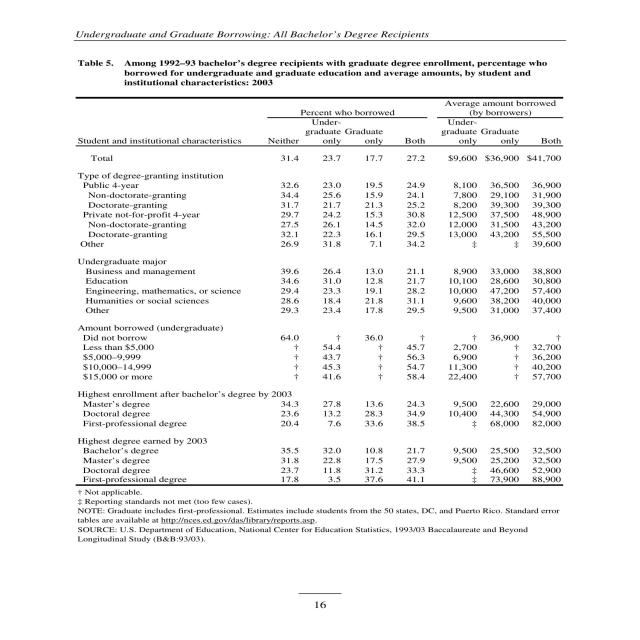table: (77, 98, 560, 482)
